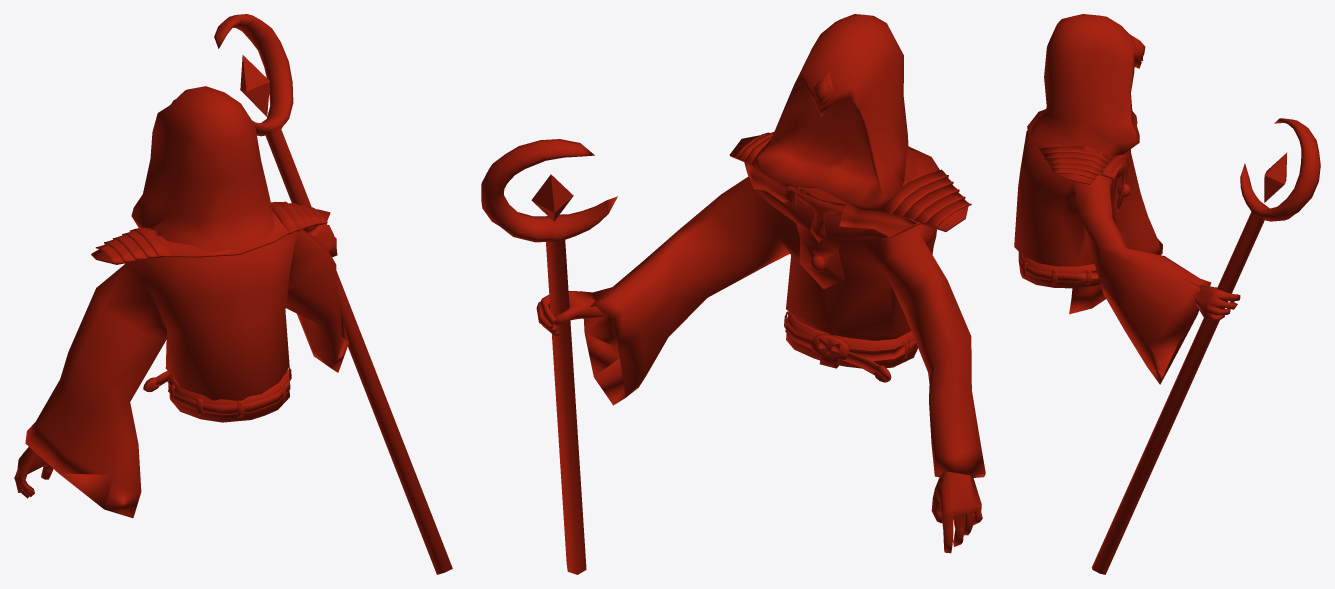
Rendered from top_000076.obj.
The picture shows the model from 3 angles, left to right: view 1: azimuth 30°, elevation 25°; view 2: azimuth 150°, elevation 25°; view 3: azimuth 270°, elevation 25°; orthographic projection. The views are drawn at different scales.
Parts seen in each view (by area): view 1: LowPoly_Warlock.000_Plane.005; view 2: LowPoly_Warlock.000_Plane.005; view 3: LowPoly_Warlock.000_Plane.005.
Part boxes in pixels (x1,y1,x2,y2): LowPoly_Warlock.000_Plane.005: (14, 14, 452, 574); LowPoly_Warlock.000_Plane.005: (481, 14, 985, 574); LowPoly_Warlock.000_Plane.005: (1014, 14, 1320, 574).
Bounding box in the file's own units: 1.48 × 1.91 × 1.16.
